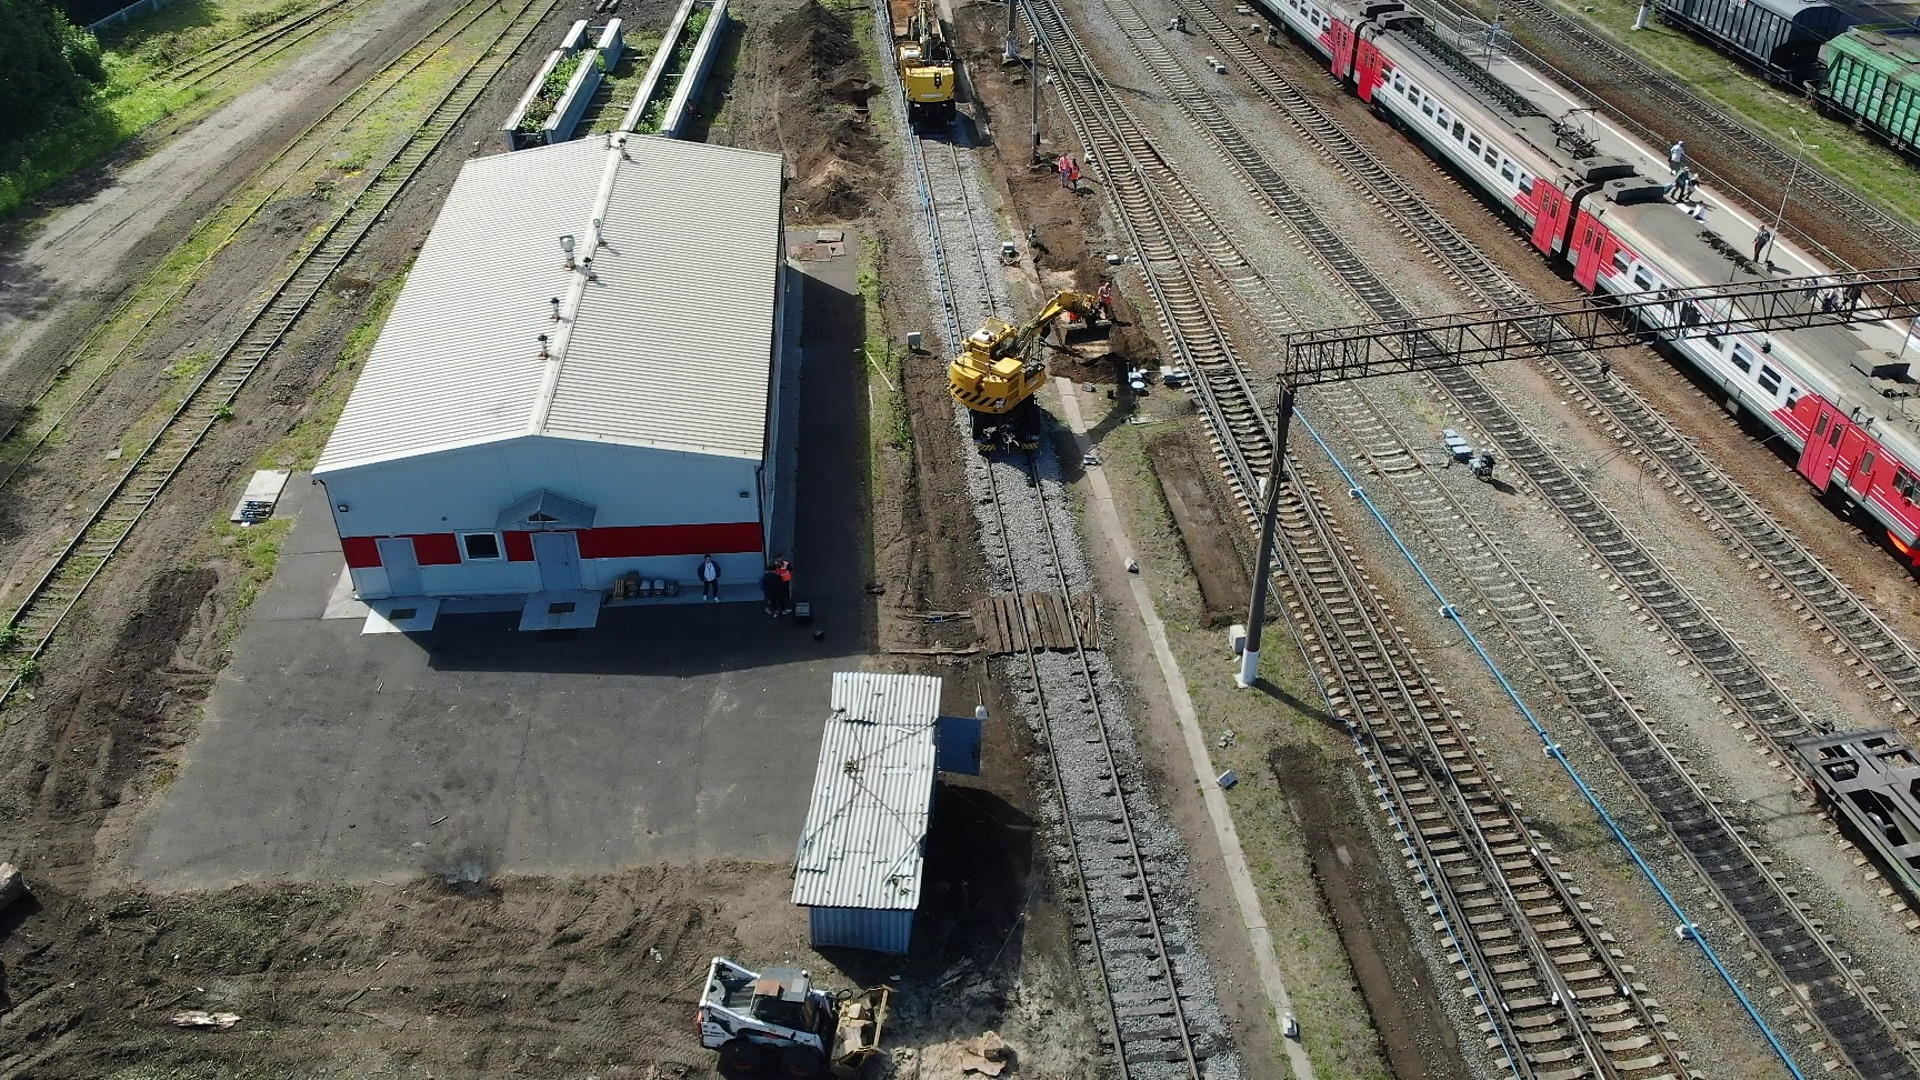kjtv: (943, 305, 1058, 464), (899, 49, 965, 137)
